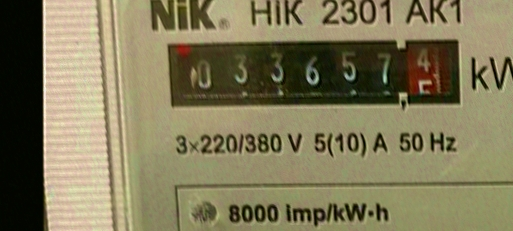0: (195, 55, 216, 92)
3: (233, 51, 252, 86), (269, 50, 287, 85)
4: (416, 44, 435, 74)
5: (339, 47, 361, 83)
6: (303, 52, 323, 88)
7: (376, 49, 394, 85)
screen: (157, 32, 470, 115)
